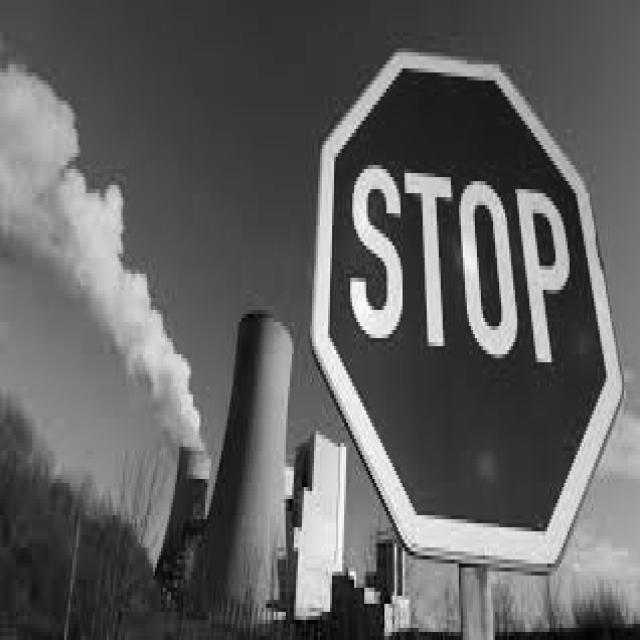stop sign: (314, 46, 625, 570)
